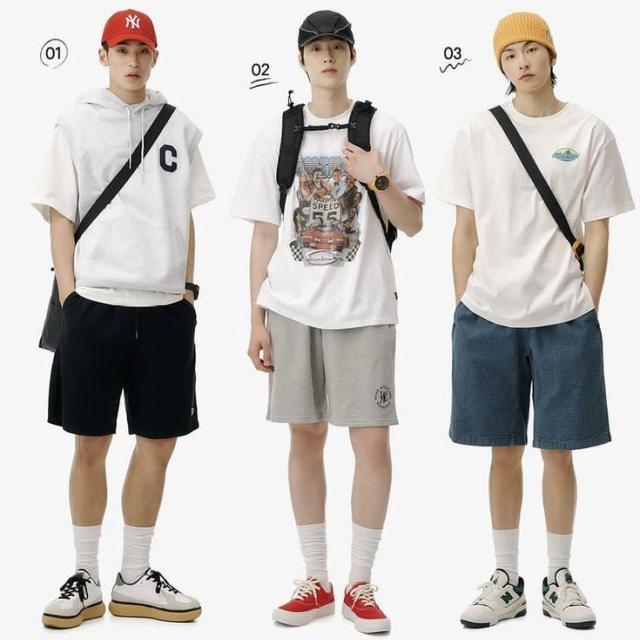person: (435, 10, 636, 630), (230, 9, 426, 634), (29, 8, 216, 629)
